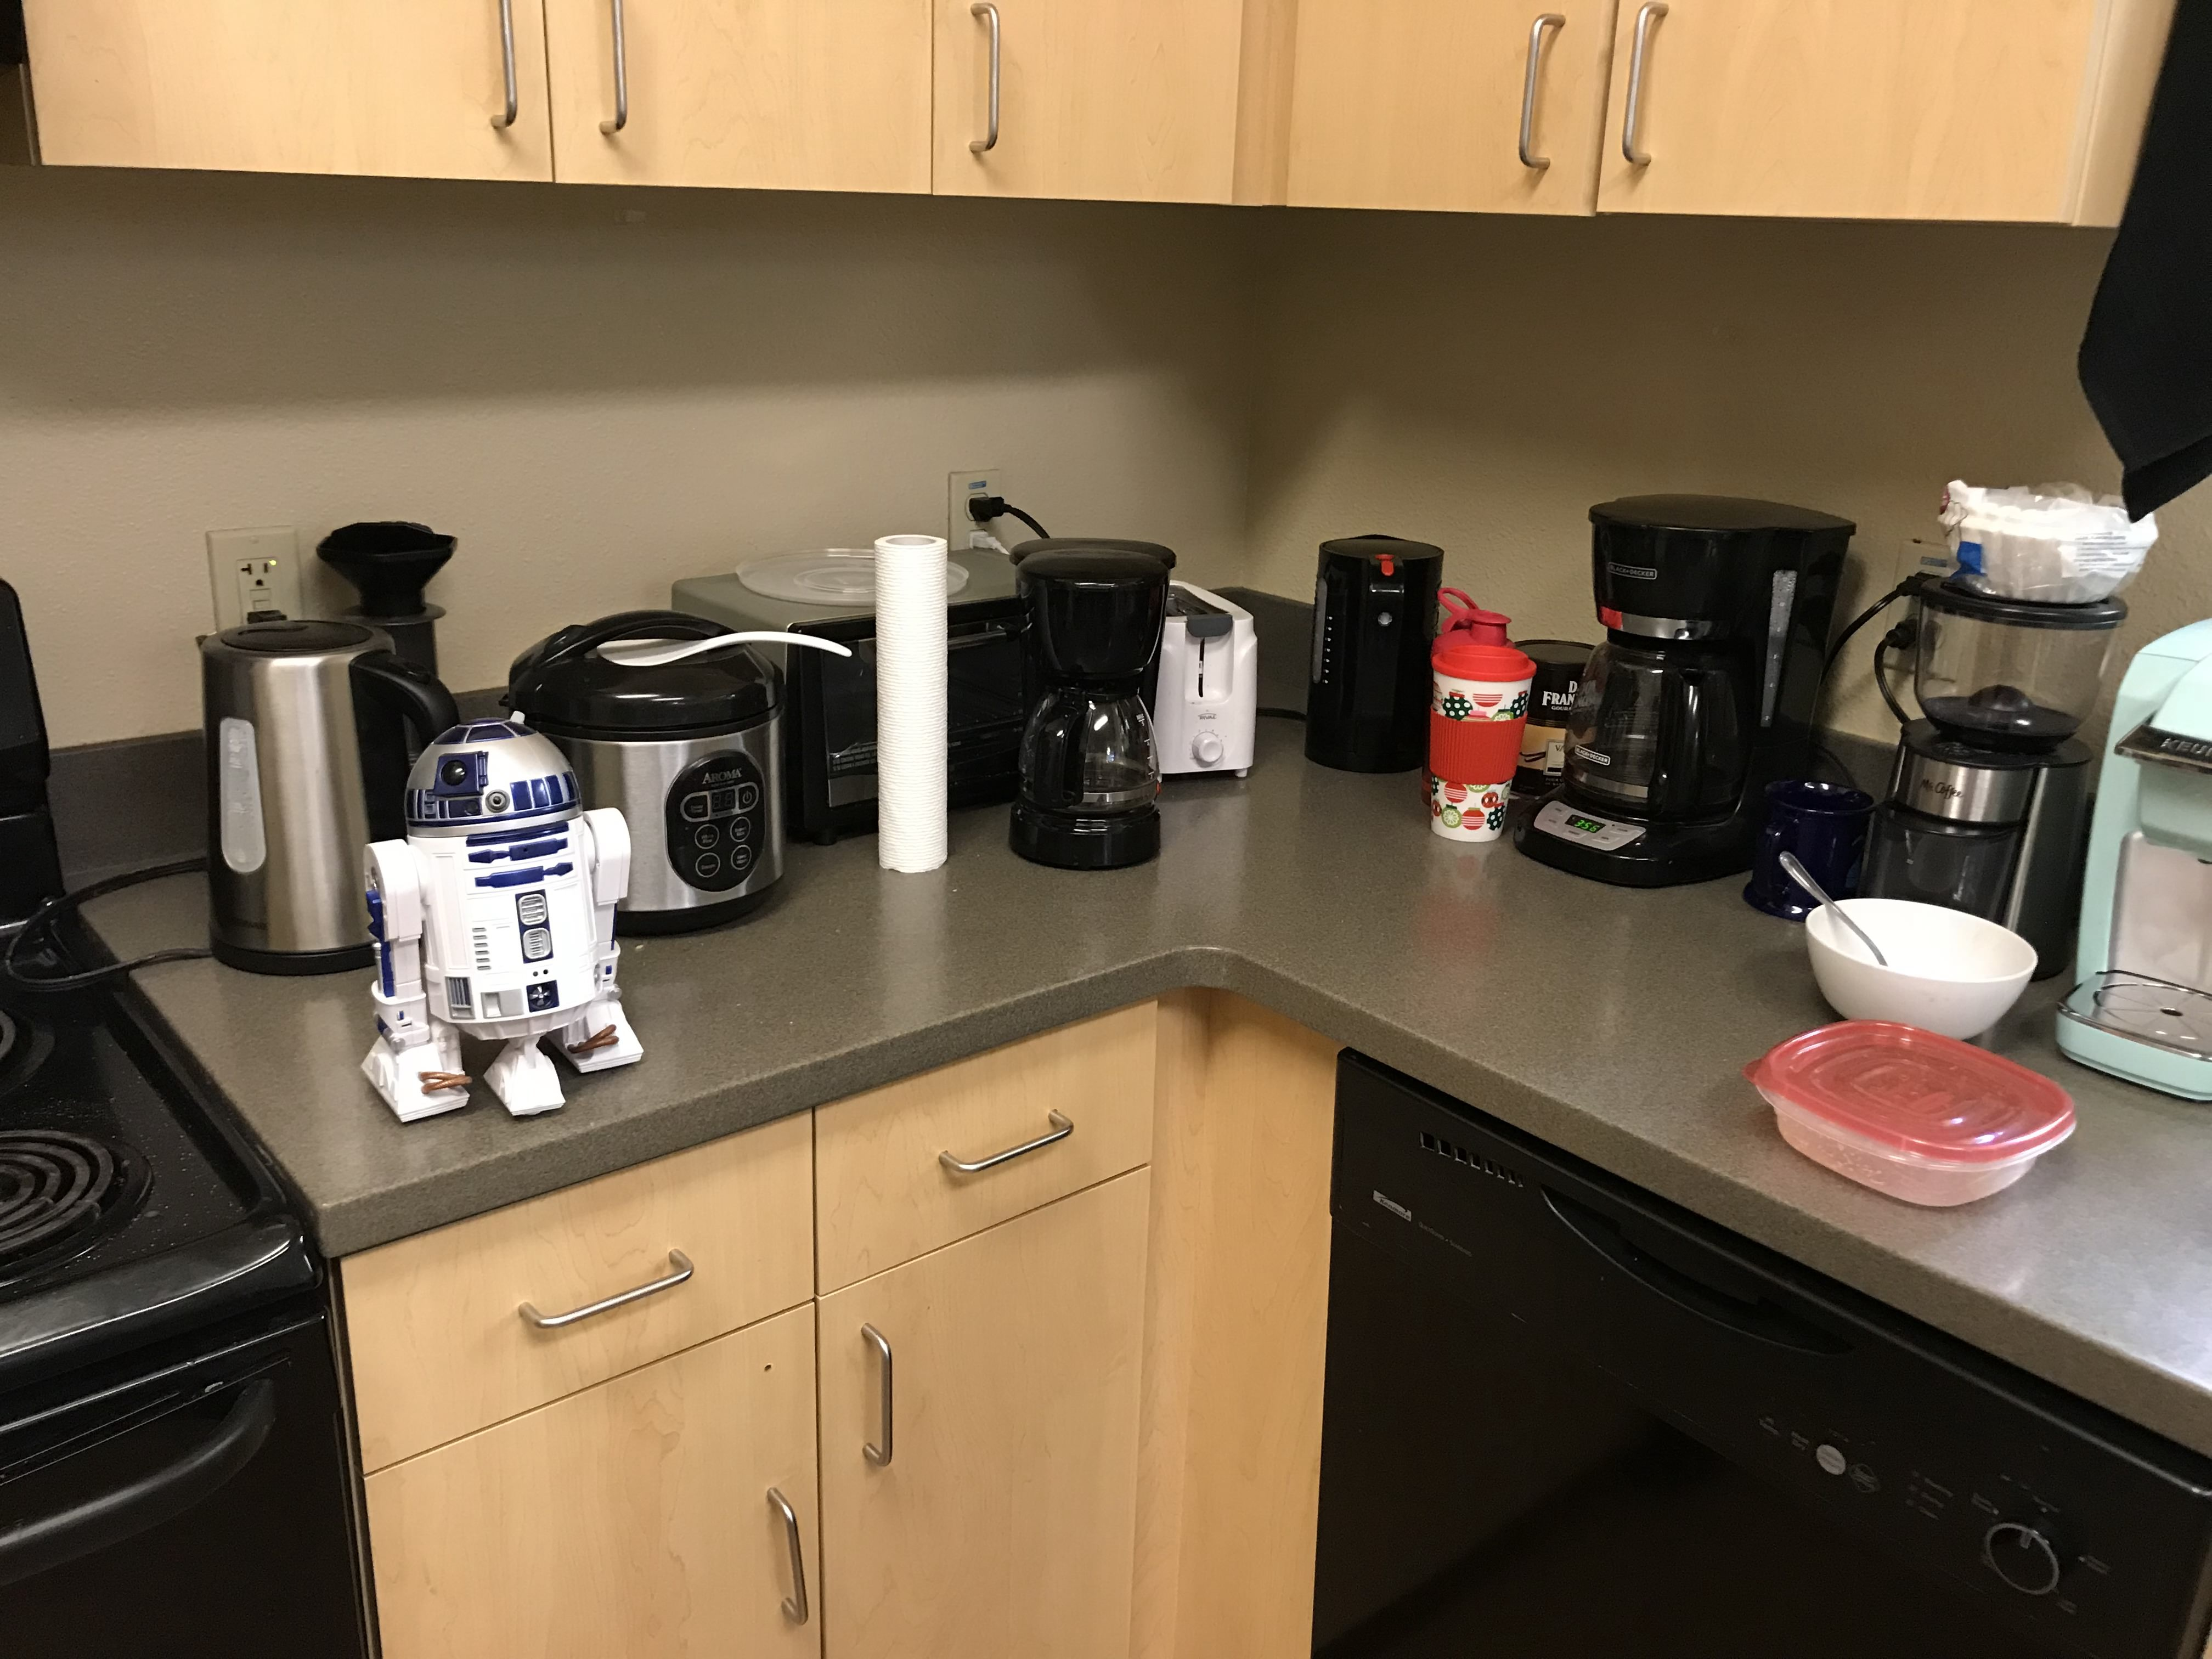r2d2: (366, 711, 646, 1126)
